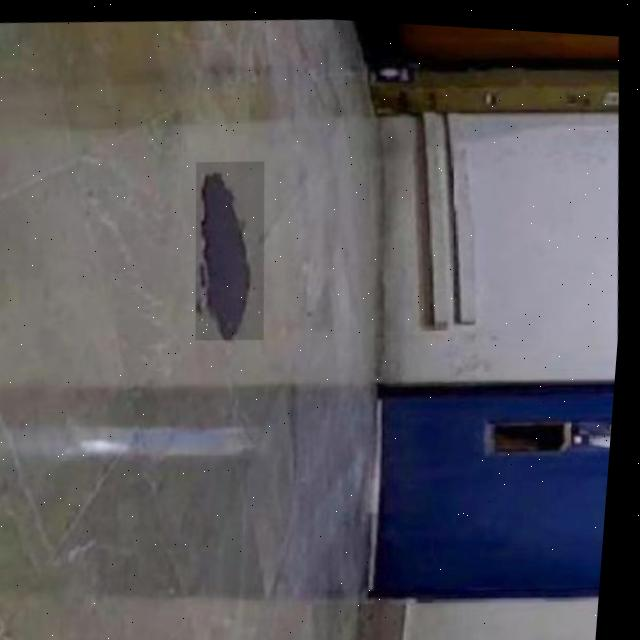spillage: (201, 158, 266, 335)
